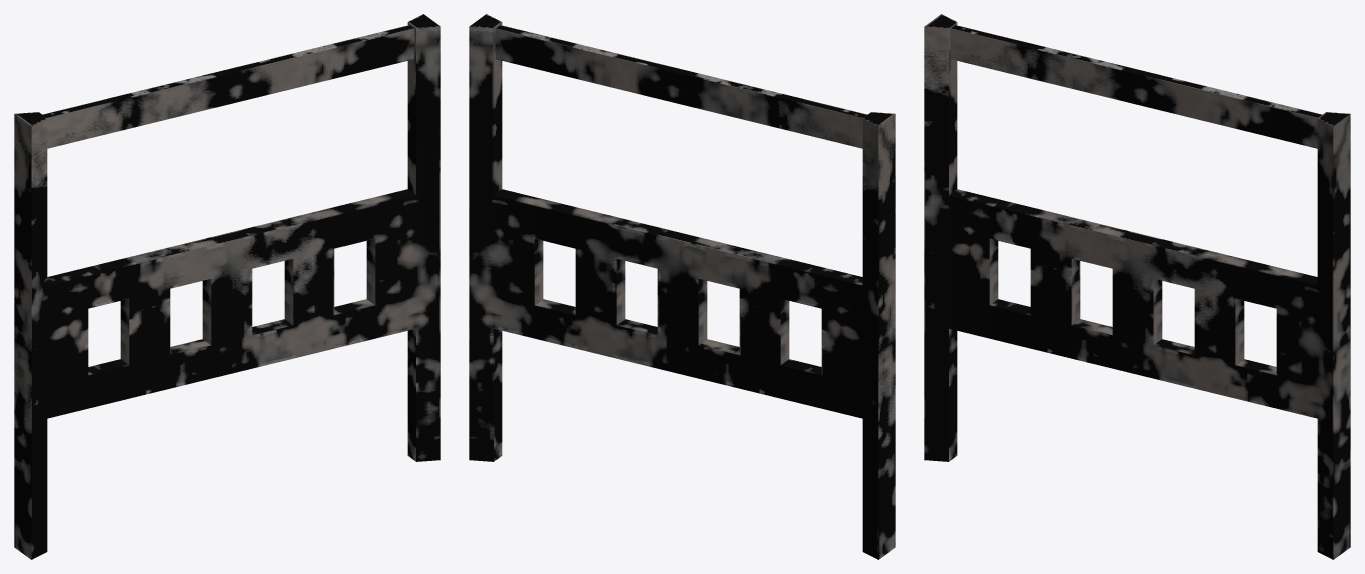
Rendered from baranda.glb.
3 views of the same model, side by side, from view 1: azimuth 30°, elevation 25°; view 2: azimuth 150°, elevation 25°; view 3: azimuth 330°, elevation 25° (orthographic).
Visible parts, largest first — view 1: Cylinder.001; view 2: Cylinder.001; view 3: Cylinder.001.
Boxes of the visible parts, left/top/right/bottom form: Cylinder.001: left=14, top=14, right=440, bottom=559; Cylinder.001: left=469, top=14, right=895, bottom=559; Cylinder.001: left=924, top=14, right=1350, bottom=559.
Size of the model in its own units: 1.13 by 1.14 by 0.0818.
Materials: 1 (1 with a texture image).
